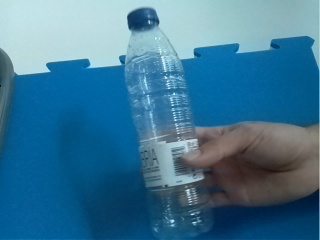botella plastico: (124, 6, 218, 238)
